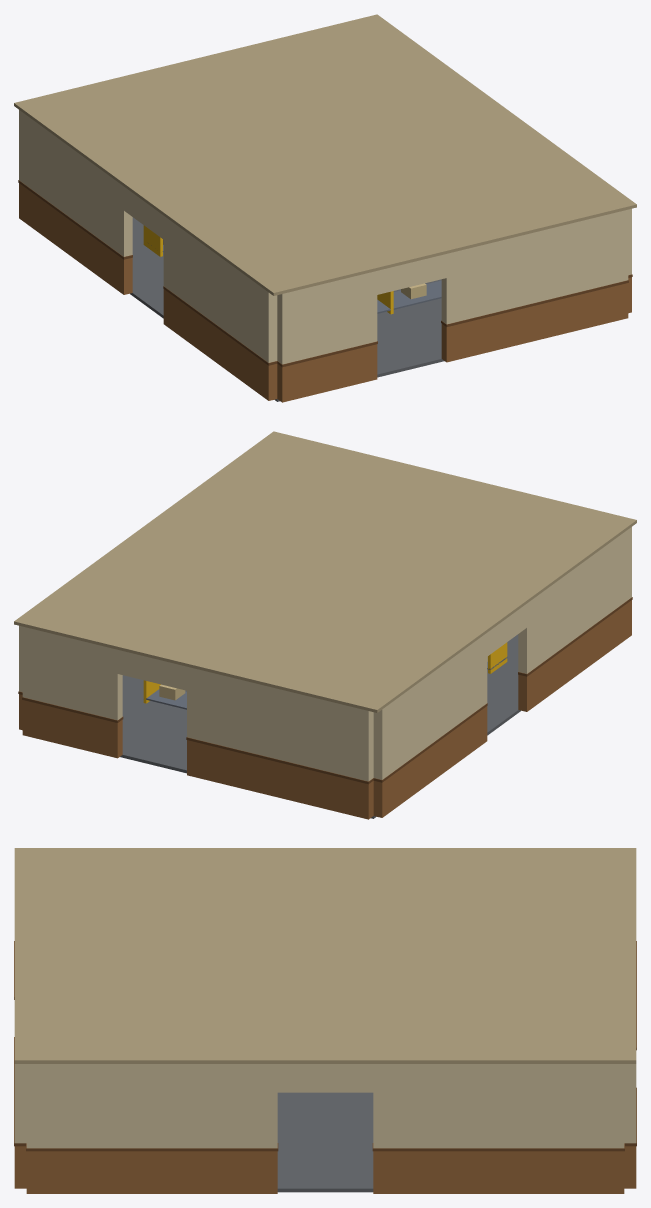
File: room_robotics_parts_storage.glb
The picture shows the model from 3 angles, top to bottom: view 1: azimuth 30°, elevation 25°; view 2: azimuth 150°, elevation 25°; view 3: azimuth 270°, elevation 25°; orthographic projection. The views are drawn at different scales.
Visible parts, largest first — view 1: room_robotics_parts_storage; view 2: room_robotics_parts_storage; view 3: room_robotics_parts_storage.
Boxes of the visible parts, bbox=[...] form: room_robotics_parts_storage: bbox=[14, 14, 636, 402]; room_robotics_parts_storage: bbox=[14, 431, 636, 819]; room_robotics_parts_storage: bbox=[14, 848, 636, 1193].
Bounding box in the file's own units: 12.62 × 3.8 × 15.64.
Materials: 1 (1 with a texture image).
